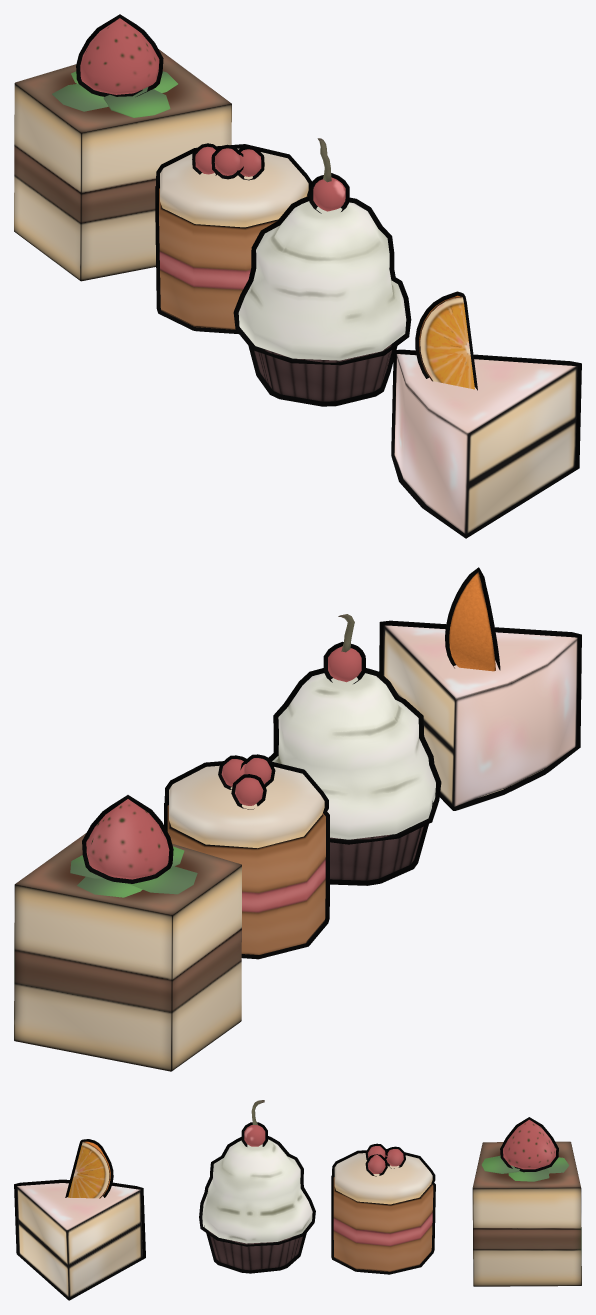
Rendered from Pastelito2.glb.
3 views of the same model, one above another, from view 1: azimuth 30°, elevation 25°; view 2: azimuth 150°, elevation 25°; view 3: azimuth 270°, elevation 25° (orthographic). The views are drawn at different scales.
Parts seen in each view (by area): view 1: Cake_strawberry_Cake_strawberry_0, Cake_orange_Outline_0, Cupcake_Outline_0, Souffle.001_Souffle_0; view 2: Cake_strawberry_Cake_strawberry_0, Cake_orange_Outline_0, Cupcake_Outline_0, Souffle.001_Souffle_0; view 3: Cake_strawberry_Cake_strawberry_0, Cake_orange_Outline_0, Cupcake_Outline_0, Souffle.001_Souffle_0.
Part boxes in pixels (box(x1,y1,x2,y2)): Cake_strawberry_Cake_strawberry_0: box(14, 14, 231, 281); Cake_orange_Outline_0: box(391, 291, 581, 538); Cupcake_Outline_0: box(233, 138, 411, 406); Souffle.001_Souffle_0: box(155, 143, 311, 333); Cake_strawberry_Cake_strawberry_0: box(14, 795, 241, 1071); Cake_orange_Outline_0: box(379, 567, 581, 810); Cupcake_Outline_0: box(268, 614, 441, 885); Souffle.001_Souffle_0: box(164, 754, 329, 959); Cake_strawberry_Cake_strawberry_0: box(472, 1117, 581, 1286); Cake_orange_Outline_0: box(14, 1139, 145, 1300); Cupcake_Outline_0: box(199, 1100, 315, 1273); Souffle.001_Souffle_0: box(331, 1143, 435, 1274).
Bounding box in the file's own units: 2.58 × 3.31 × 10.06.
Materials: 5 (4 with a texture image).
